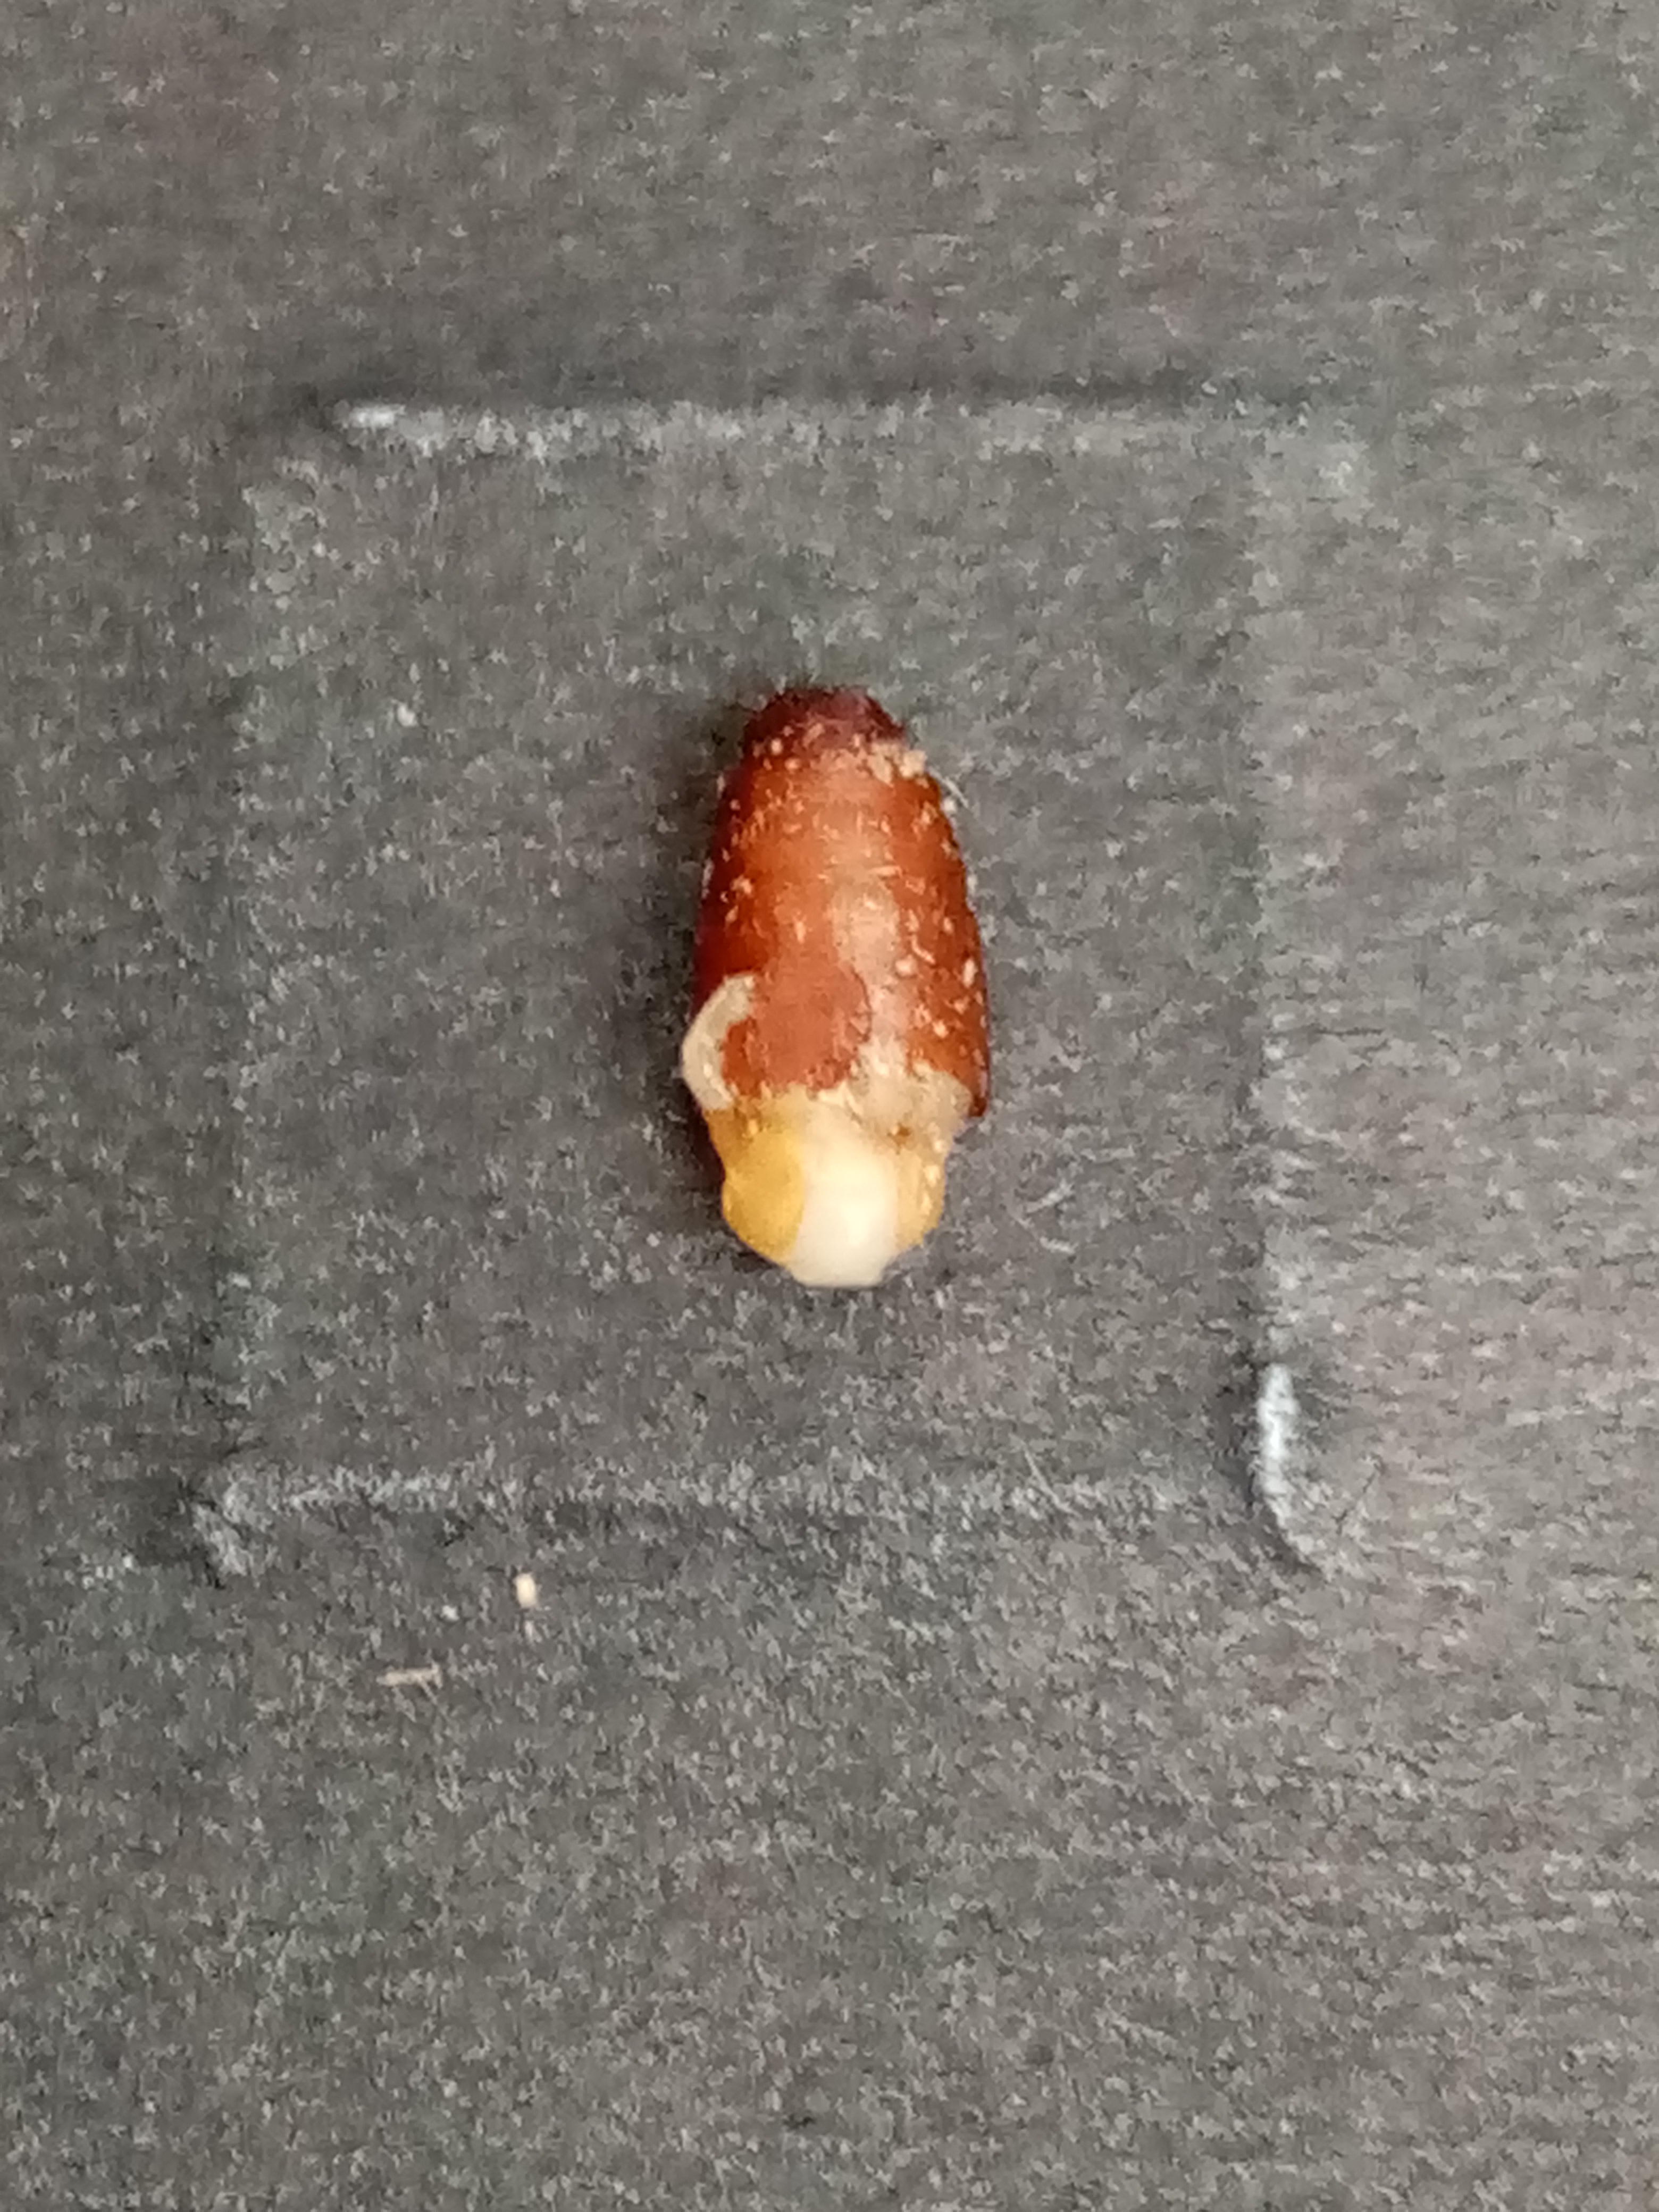pupa: (713, 1115, 953, 1296)
